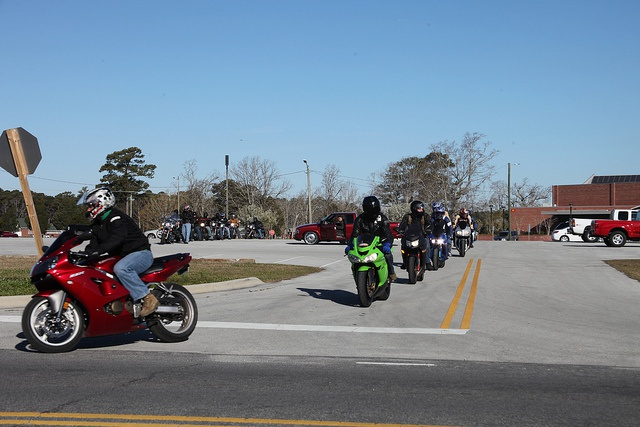non-vehicle: (21, 225, 197, 352), (345, 227, 394, 308), (395, 231, 431, 284), (427, 233, 450, 270), (450, 222, 475, 256), (160, 211, 180, 244), (244, 221, 265, 239), (199, 219, 208, 239), (209, 220, 218, 238), (230, 221, 236, 240)
